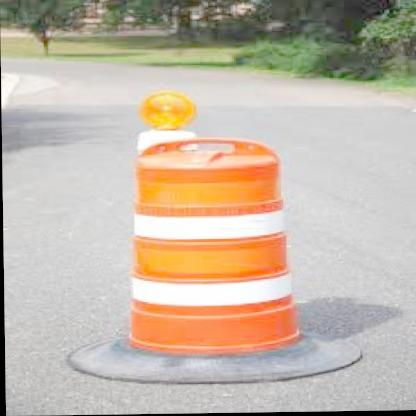obstacle: (110, 133, 303, 354)
